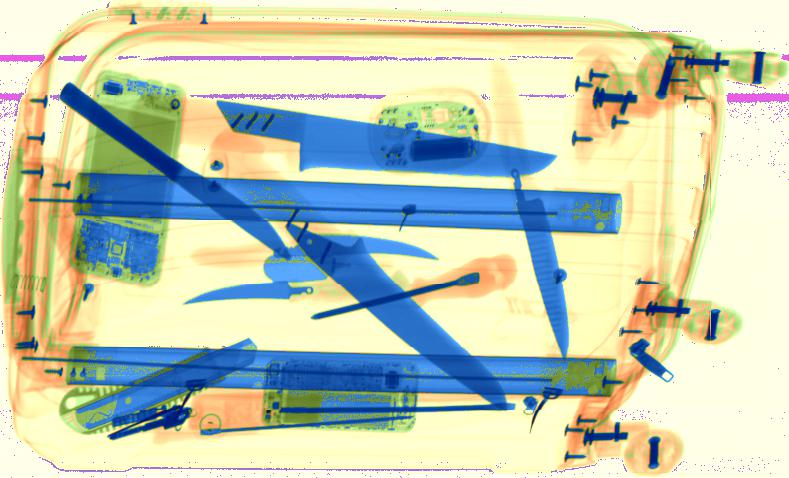Knife: (58, 82, 296, 263), (282, 221, 507, 410), (214, 97, 558, 178), (506, 166, 570, 356), (198, 232, 440, 267), (179, 280, 351, 305), (264, 250, 348, 282)
